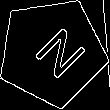N_SW: (20, 20, 85, 85)
